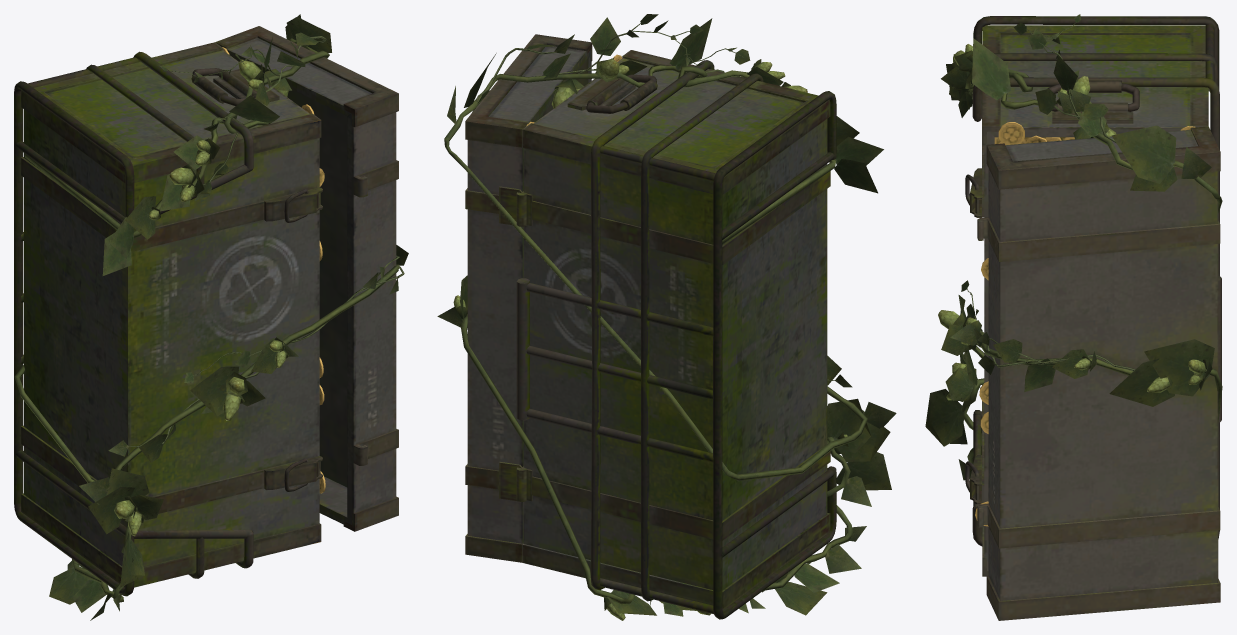
File: TreasureChest.fbx
3 renders of one model, left to right at view 1: azimuth 30°, elevation 25°; view 2: azimuth 150°, elevation 25°; view 3: azimuth 270°, elevation 25°, orthographic. The views are drawn at different scales.
Visible parts, largest first — view 1: set_0_group_1, set_0_group_0; view 2: set_0_group_1, set_0_group_0; view 3: set_0_group_1, set_0_group_0.
Part boxes in pixels (x1=…): set_0_group_1: x1=14, y1=26, x2=398, y2=596; set_0_group_0: x1=14, y1=14, x2=408, y2=620; set_0_group_1: x1=465, y1=34, x2=836, y2=619; set_0_group_0: x1=437, y1=14, x2=896, y2=620; set_0_group_1: x1=965, y1=16, x2=1221, y2=620; set_0_group_0: x1=925, y1=14, x2=1222, y2=480.
Size of the model in its own units: 90.35 by 132 by 63.42.
2 materials, 2 textured.
